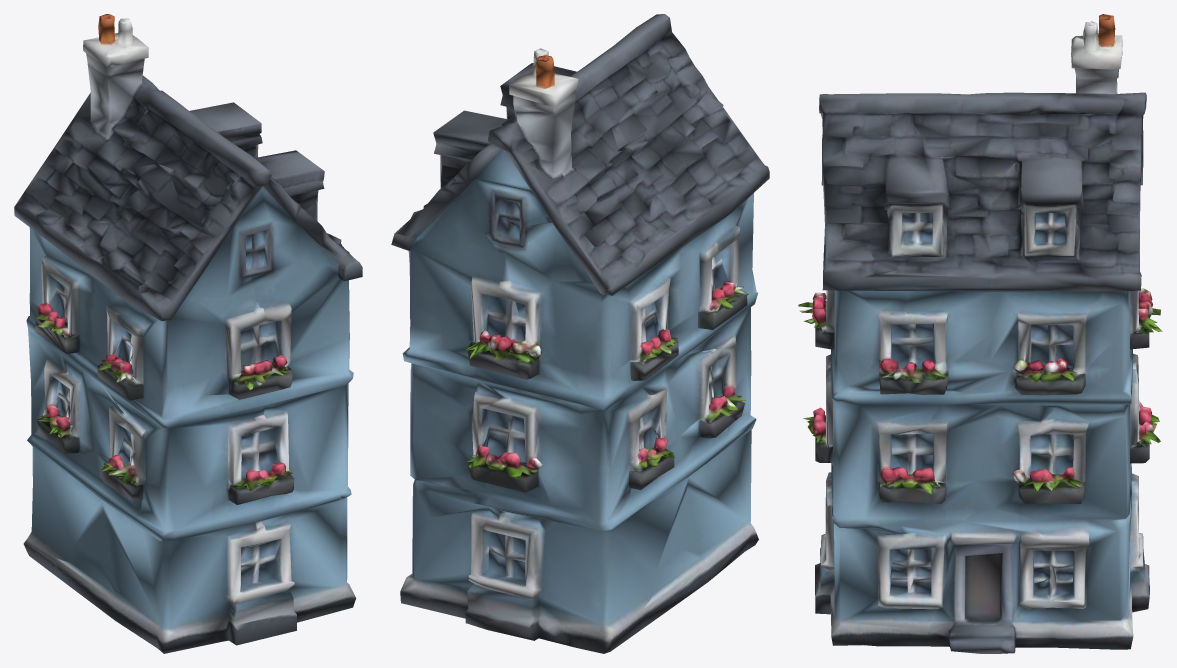
File: townhouse.glb
3 views of the same model, side by side, from view 1: azimuth 30°, elevation 25°; view 2: azimuth 150°, elevation 25°; view 3: azimuth 270°, elevation 25° (orthographic). The views are drawn at different scales.
Visible parts, largest first — view 1: tripo_node_df17728c-6c9a-4af8-9e94-95bbfb52504e; view 2: tripo_node_df17728c-6c9a-4af8-9e94-95bbfb52504e; view 3: tripo_node_df17728c-6c9a-4af8-9e94-95bbfb52504e.
Part boxes in pixels (x1,y1,x2,y2): tripo_node_df17728c-6c9a-4af8-9e94-95bbfb52504e: (14,14,362,653); tripo_node_df17728c-6c9a-4af8-9e94-95bbfb52504e: (391,14,769,653); tripo_node_df17728c-6c9a-4af8-9e94-95bbfb52504e: (798,14,1162,653).
Bounding box in the file's own units: 0.4672 × 0.9993 × 0.5807.
Materials: 1 (1 with a texture image).
